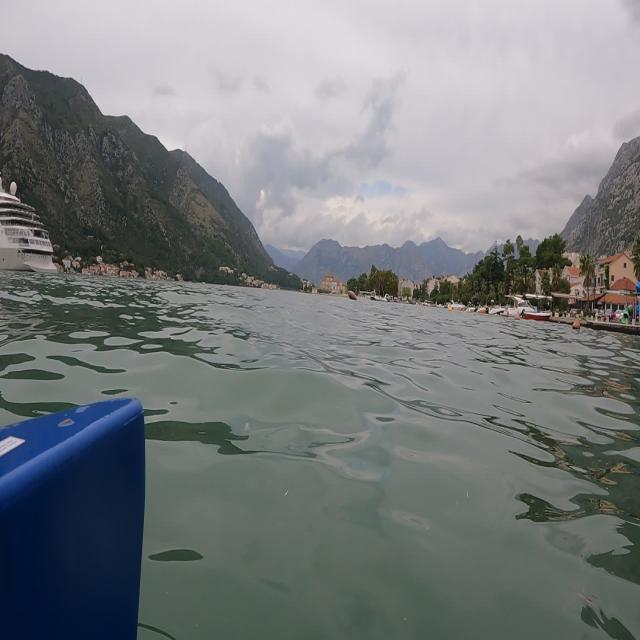boat: (0, 162, 68, 294)
